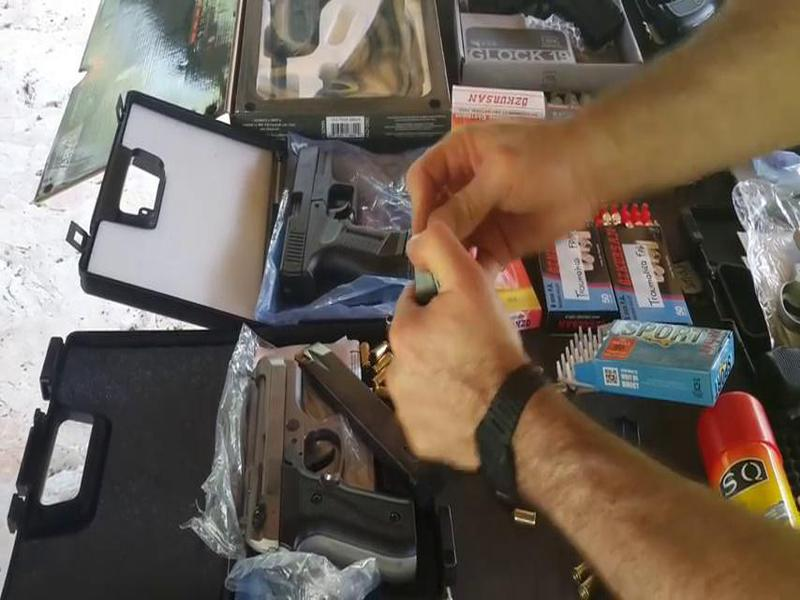Pistola: (211, 336, 434, 579), (277, 122, 426, 301)
